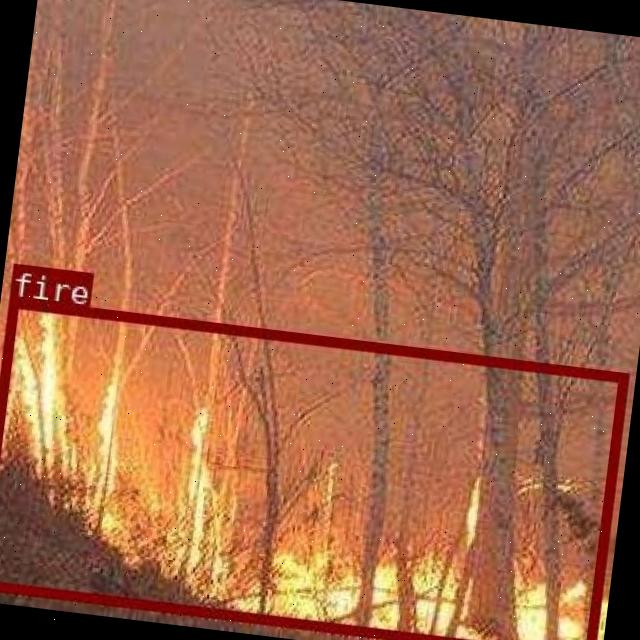fire: (0, 295, 628, 640)
